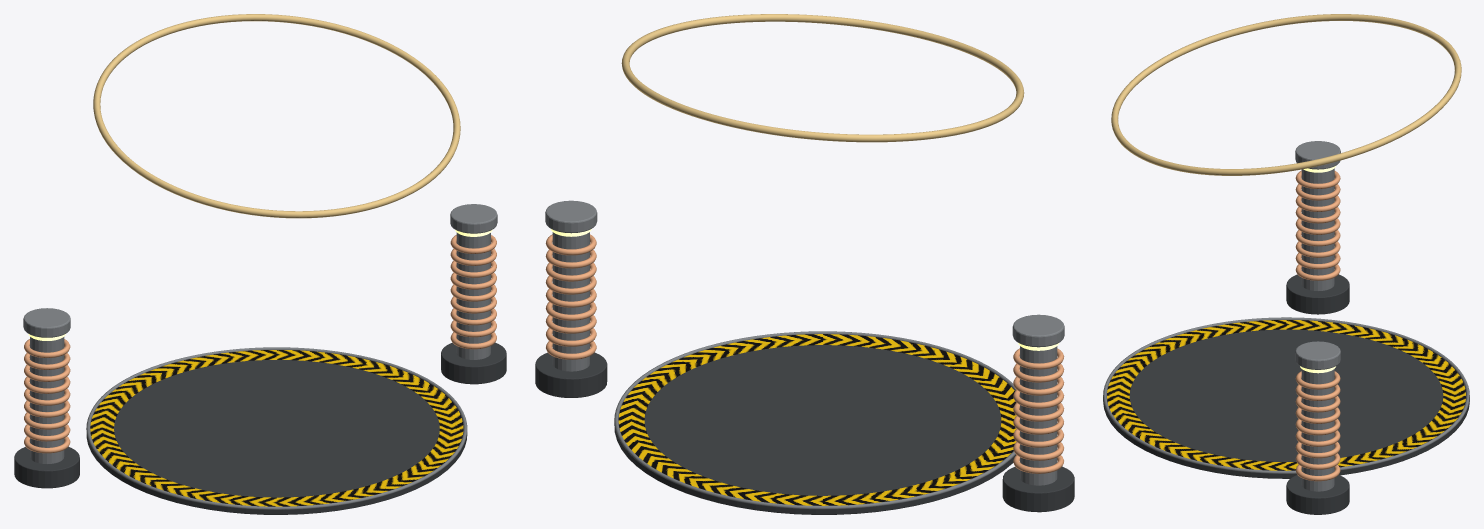
The model's file is tsra_gate.glb.
3 views of the same model, side by side, from view 1: azimuth 30°, elevation 25°; view 2: azimuth 150°, elevation 25°; view 3: azimuth 270°, elevation 25° (orthographic). The views are drawn at different scales.
Visible parts, largest first — view 1: Platform, PlatformHazard, Orbit, PlatformLip, CoilCore_R, CoilCore_L, CoilBase_L, CoilBase_R, CoilCap_L, CoilCap_R; view 2: Platform, PlatformHazard, Orbit, PlatformLip, CoilCore_R, CoilCore_L, CoilBase_L, CoilBase_R, CoilCap_R, CoilCap_L; view 3: Platform, PlatformHazard, Orbit, PlatformLip, CoilCore_L, CoilCore_R, CoilBase_L, CoilBase_R, CoilCap_R, CoilCap_L.
Part boxes in pixels (left/top/right/bottom): Platform: left=86, top=360, right=467, bottom=514; PlatformHazard: left=90, top=350, right=463, bottom=506; Orbit: left=93, top=14, right=460, bottom=218; PlatformLip: left=86, top=347, right=467, bottom=509; CoilCore_R: left=456, top=232, right=490, bottom=359; CoilCore_L: left=30, top=337, right=64, bottom=463; CoilBase_L: left=14, top=447, right=79, bottom=488; CoilBase_R: left=441, top=342, right=506, bottom=384; CoilCap_L: left=23, top=308, right=70, bottom=337; CoilCap_R: left=450, top=204, right=497, bottom=233; Platform: left=614, top=345, right=1015, bottom=514; PlatformHazard: left=618, top=334, right=1019, bottom=505; Orbit: left=621, top=14, right=1024, bottom=142; PlatformLip: left=614, top=331, right=1019, bottom=509; CoilCore_R: left=552, top=232, right=589, bottom=371; CoilCore_L: left=1020, top=346, right=1057, bottom=485; CoilBase_L: left=1002, top=466, right=1074, bottom=512; CoilBase_R: left=535, top=352, right=607, bottom=397; CoilCap_R: left=545, top=200, right=597, bottom=233; CoilCap_L: left=1012, top=314, right=1064, bottom=347; Platform: left=1103, top=329, right=1469, bottom=478; PlatformHazard: left=1107, top=320, right=1465, bottom=470; Orbit: left=1111, top=14, right=1461, bottom=175; PlatformLip: left=1103, top=317, right=1469, bottom=473; CoilCore_L: left=1301, top=168, right=1334, bottom=290; CoilCore_R: left=1301, top=369, right=1334, bottom=491; CoilBase_L: left=1286, top=274, right=1349, bottom=314; CoilBase_R: left=1286, top=475, right=1349, bottom=514; CoilCap_R: left=1295, top=341, right=1340, bottom=369; CoilCap_L: left=1295, top=141, right=1340, bottom=169.
Size of what is drawn, in the model's own units: 8.5 by 5.83 by 5.8.
Materials: 6 (1 with a texture image).
